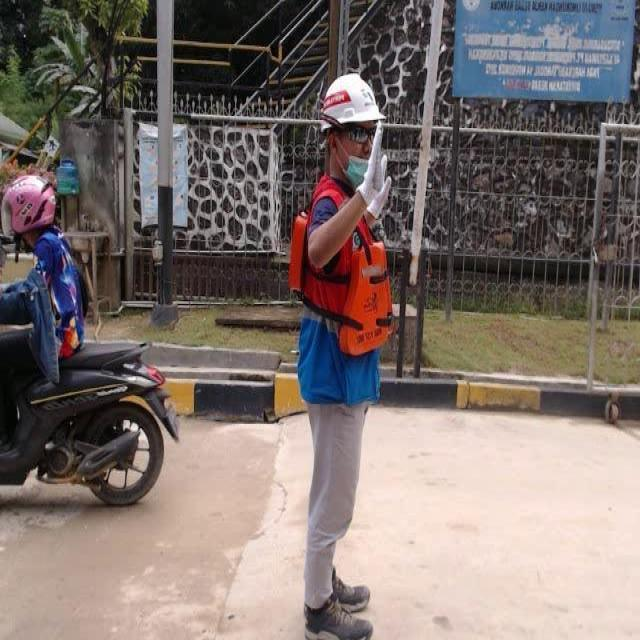helmet: (314, 72, 398, 132)
jacket: (278, 174, 408, 364)
